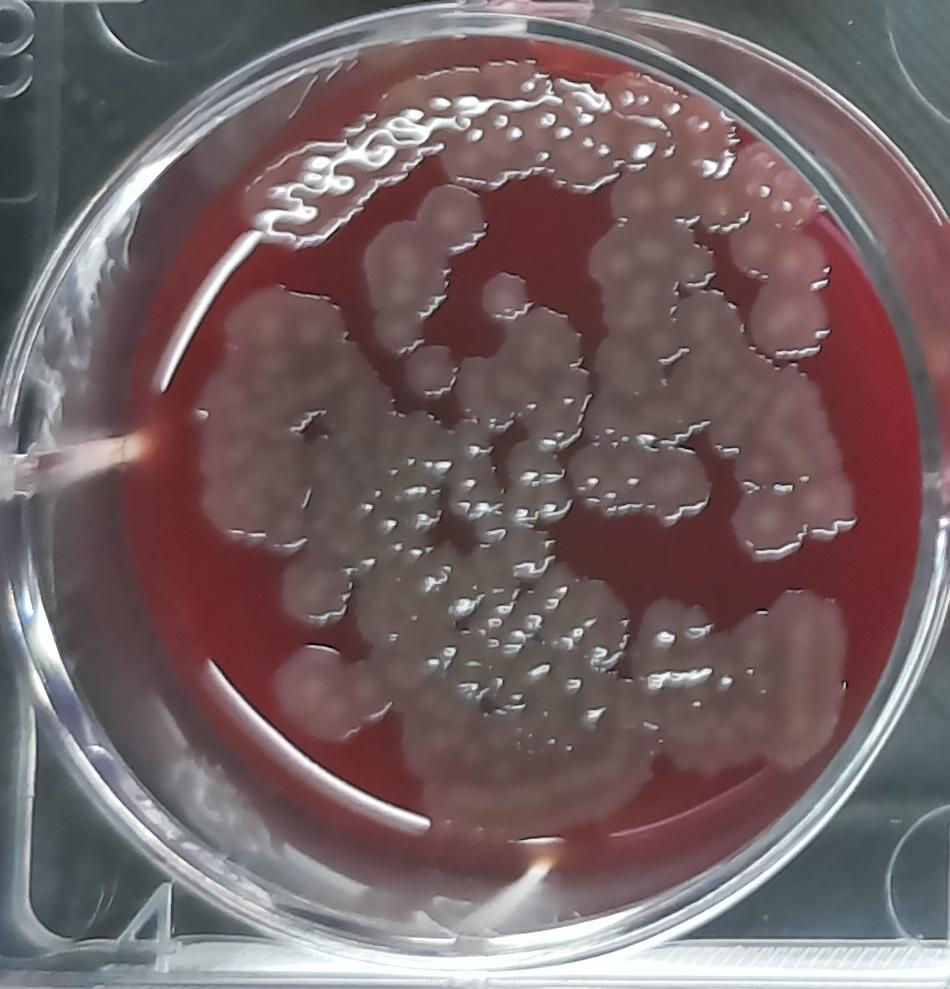vproteolyticus: (226, 54, 747, 232), (357, 531, 645, 848), (185, 264, 432, 629), (680, 293, 863, 560), (641, 577, 864, 780), (356, 171, 491, 355), (460, 306, 599, 460), (262, 634, 393, 744), (744, 276, 839, 362), (727, 213, 835, 288), (397, 334, 460, 398), (477, 262, 533, 327)
